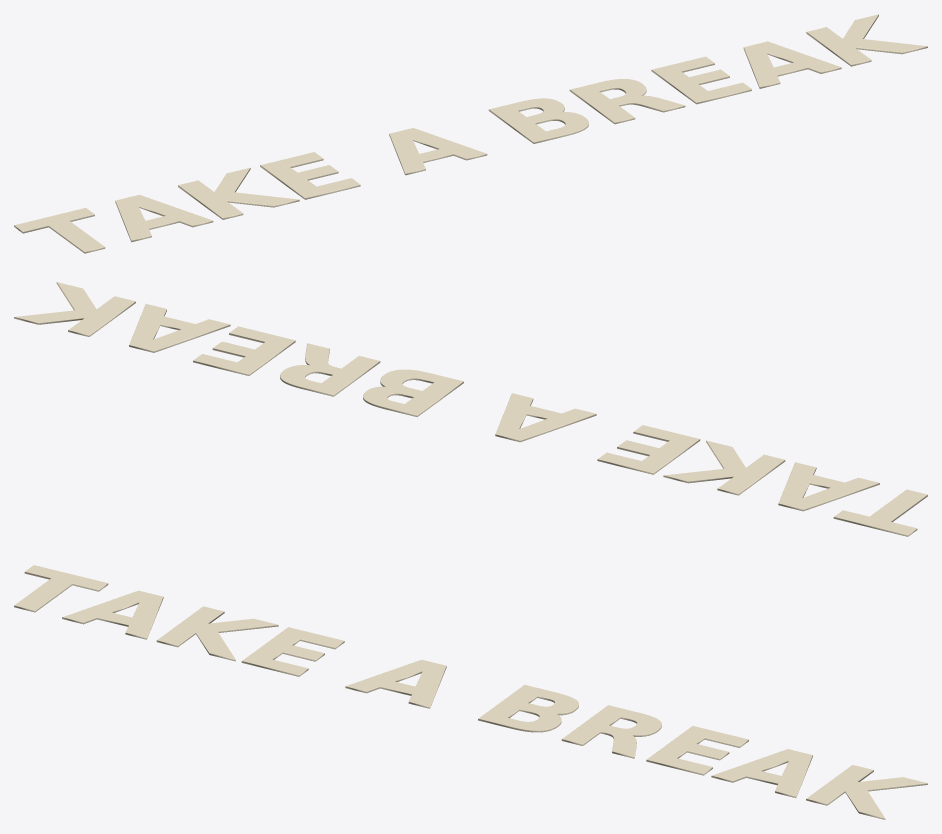
The model's file is SM_EG_Staff_welcome_04642da45e.fbx.
3 views of the same model, one above another, from view 1: azimuth 30°, elevation 25°; view 2: azimuth 150°, elevation 25°; view 3: azimuth 330°, elevation 25° (orthographic). The views are drawn at different scales.
Visible parts, largest first — view 1: SM_EG_Staff_welcome_04642da45e; view 2: SM_EG_Staff_welcome_04642da45e; view 3: SM_EG_Staff_welcome_04642da45e.
Part boxes in pixels (left/top/right/bottom): SM_EG_Staff_welcome_04642da45e: left=14, top=14, right=927, bottom=253; SM_EG_Staff_welcome_04642da45e: left=14, top=282, right=927, bottom=536; SM_EG_Staff_welcome_04642da45e: left=14, top=565, right=927, bottom=819.
Bounding box in the file's own units: 206 × 18.48 × 0.44.
